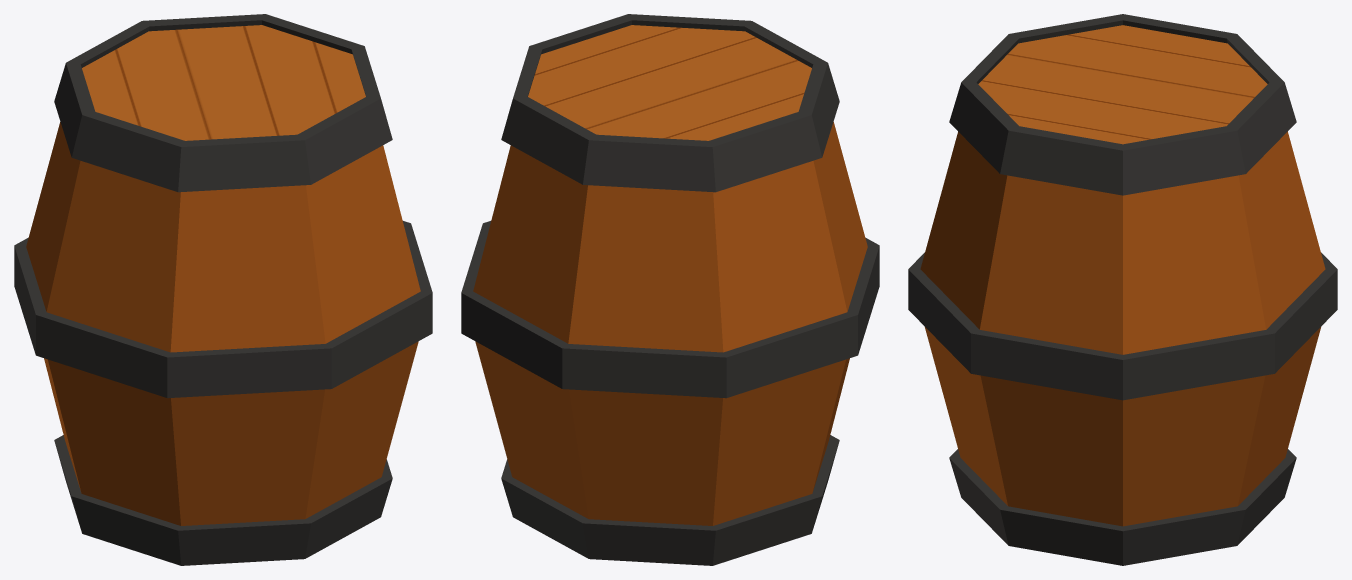
File: Barrel_01.fbx
3 views of the same model, side by side, from view 1: azimuth 30°, elevation 25°; view 2: azimuth 150°, elevation 25°; view 3: azimuth 270°, elevation 25° (orthographic).
Parts seen in each view (by area): view 1: Barrel_01; view 2: Barrel_01; view 3: Barrel_01.
Part boxes in pixels (x1,y1,x2,y2): Barrel_01: (14,14,432,565); Barrel_01: (461,14,879,565); Barrel_01: (908,14,1337,565).
Bounding box in the file's own units: 75 × 80 × 75.
1 material, 1 textured.
